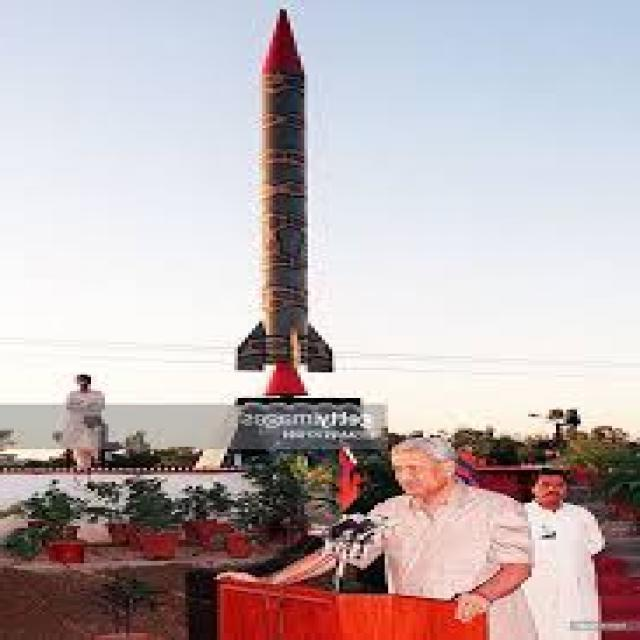missile: (232, 9, 334, 393)
